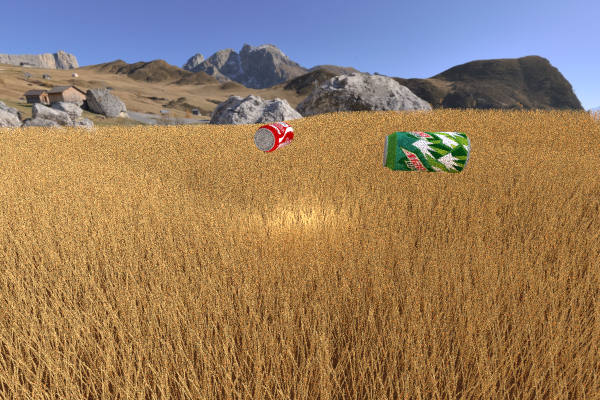bottle: (0, 143, 439, 400)
can: (383, 131, 470, 173), (253, 121, 293, 152)
